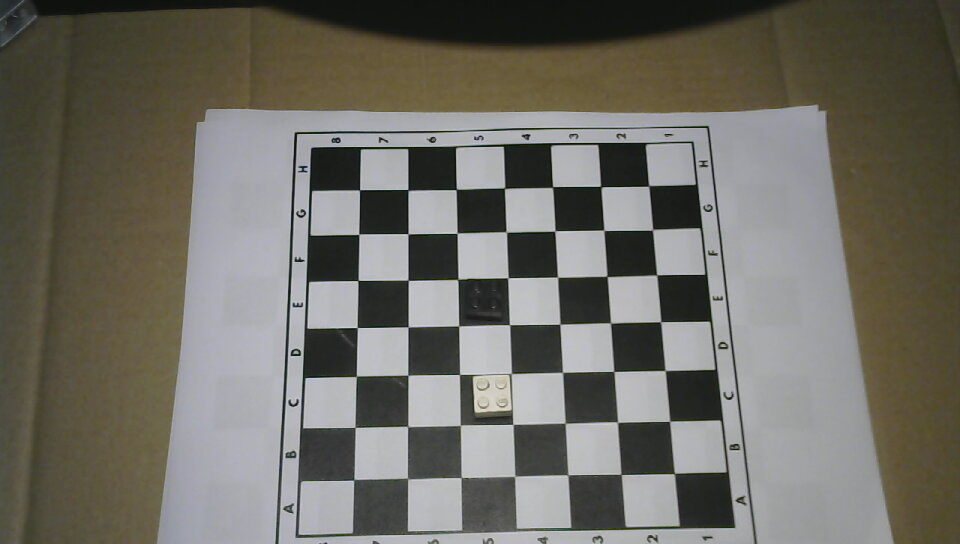bp: (459, 276, 505, 322)
